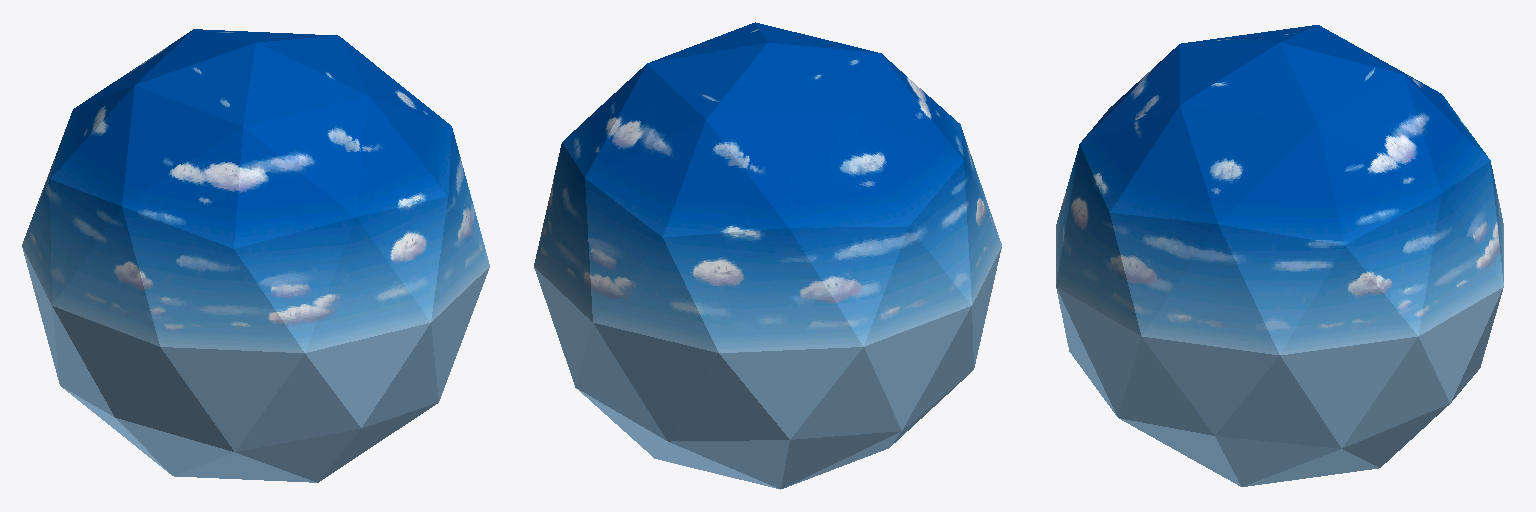
3 views of the same model, side by side, from view 1: azimuth 30°, elevation 25°; view 2: azimuth 150°, elevation 25°; view 3: azimuth 270°, elevation 25° (orthographic).
Visible parts, largest first — view 1: SkySphere; view 2: SkySphere; view 3: SkySphere.
Boxes of the visible parts, x1=… form: SkySphere: x1=22, y1=29, x2=489, y2=482; SkySphere: x1=534, y1=22, x2=1001, y2=489; SkySphere: x1=1056, y1=25, x2=1503, y2=486.
Bounding box in the file's own units: 2000 × 2000 × 1902.
1 materials, 1 textured.